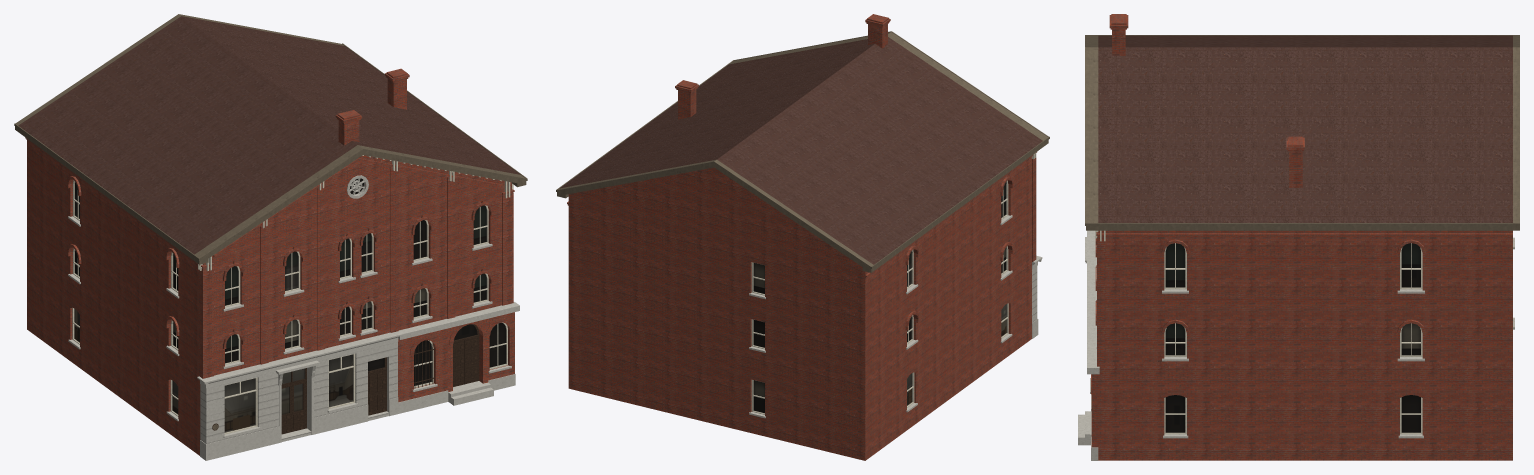
Rendered from masonic-hall.glb.
3 views of the same model, side by side, from view 1: azimuth 30°, elevation 25°; view 2: azimuth 150°, elevation 25°; view 3: azimuth 270°, elevation 25° (orthographic). The views are drawn at different scales.
Parts seen in each view (by area): view 1: MasonicHall; view 2: MasonicHall; view 3: MasonicHall.
Part boxes in pixels (x1,y1,x2,y2): MasonicHall: (14,14,527,460); MasonicHall: (556,14,1049,460); MasonicHall: (1078,14,1519,460).
Size of the model in its own units: 19.7 by 17.2 by 19.49.
Materials: 10 (9 with a texture image).
